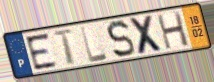E: (23, 31, 60, 72)
H: (155, 10, 191, 51)
L: (78, 24, 110, 65)
S: (105, 19, 137, 60)
T: (52, 28, 78, 67)
X: (127, 14, 166, 56)
